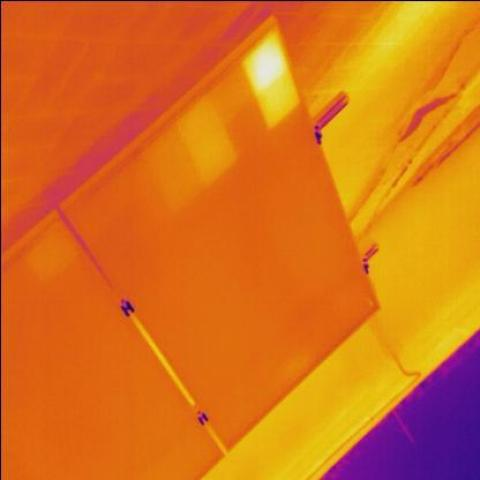fault: (248, 44, 284, 82)
